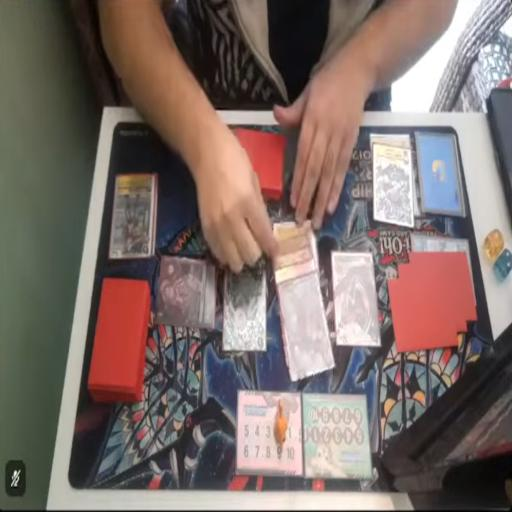card: (278, 273, 336, 384), (332, 248, 381, 355), (107, 174, 159, 262), (223, 256, 268, 351), (157, 259, 217, 329), (372, 141, 414, 226), (274, 256, 316, 283), (273, 220, 316, 239), (273, 246, 313, 264), (268, 235, 311, 249)
